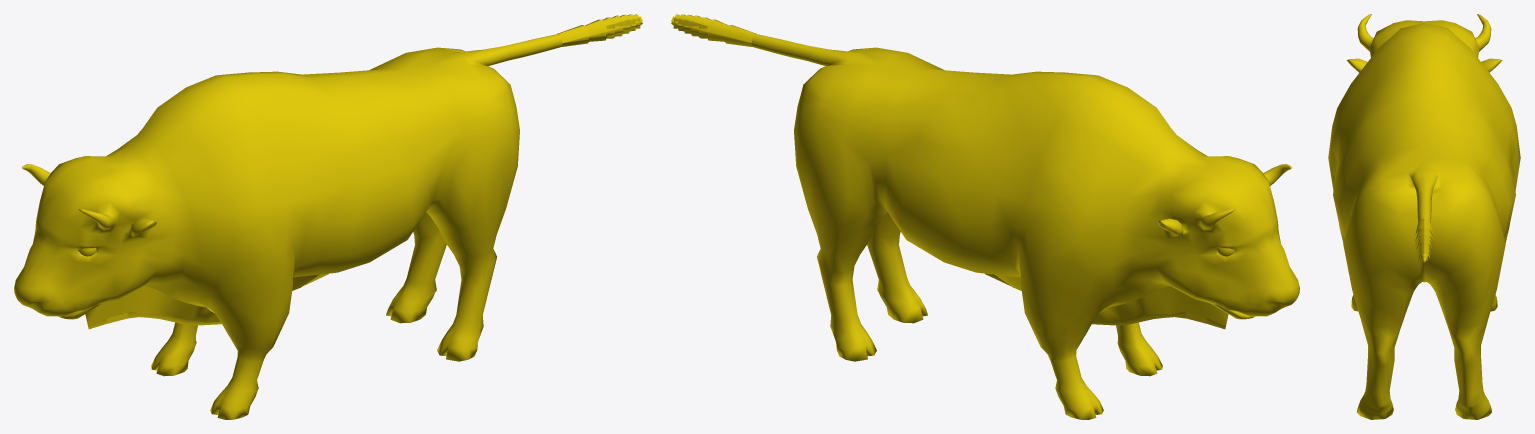
Rendered from wuson.glb.
The picture shows the model from 3 angles, left to right: view 1: azimuth 30°, elevation 25°; view 2: azimuth 150°, elevation 25°; view 3: azimuth 270°, elevation 25°; orthographic projection. The views are drawn at different scales.
Visible parts, largest first — view 1: default; view 2: default; view 3: default.
Part boxes in pixels (x1,y1,x2,y2): default: [14, 14, 642, 419]; default: [671, 14, 1299, 419]; default: [1328, 14, 1520, 419].
Size of the model in its own units: 3.24 by 1.52 by 0.92.
